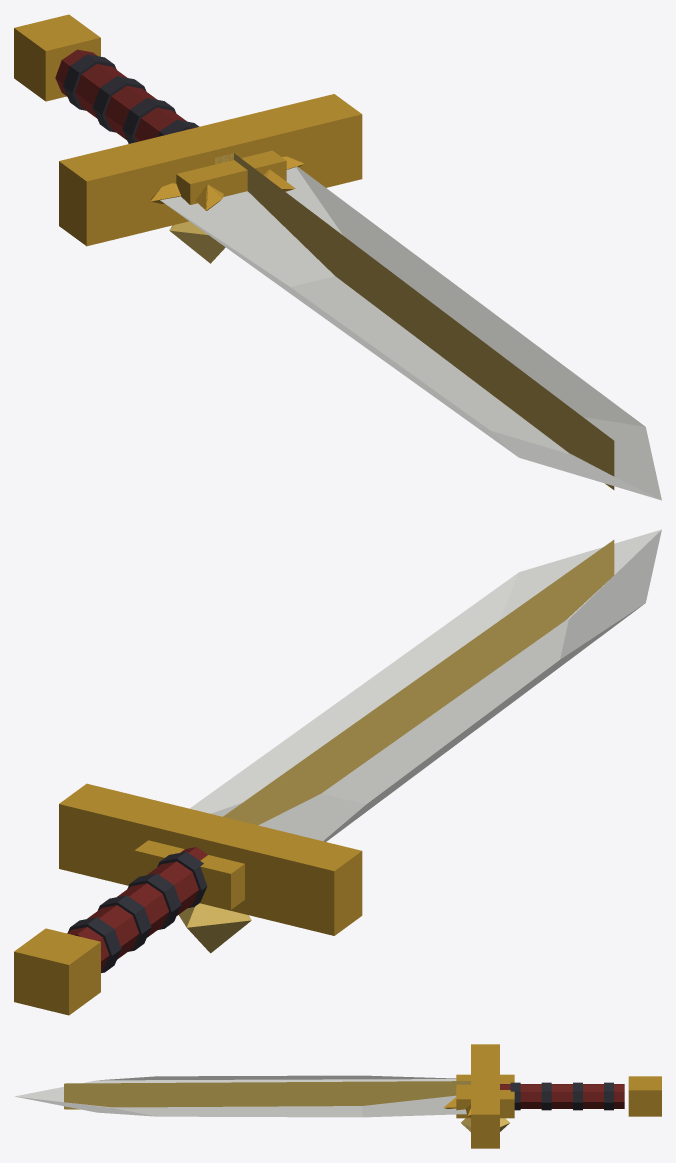
File: 17_Sunforged_Claymore.glb
3 renders of one model, top to bottom at view 1: azimuth 30°, elevation 25°; view 2: azimuth 150°, elevation 25°; view 3: azimuth 270°, elevation 25°, orthographic. The views are drawn at different scales.
Parts seen in each view (by area): view 1: 17_Sunforged_Claymore; view 2: 17_Sunforged_Claymore; view 3: 17_Sunforged_Claymore.
Boxes of the visible parts, <box> form: 17_Sunforged_Claymore: <box>14,14,661,500</box>; 17_Sunforged_Claymore: <box>14,529,661,1015</box>; 17_Sunforged_Claymore: <box>14,1044,661,1148</box>.
Size of the model in its own units: 0.4 by 0.175 by 1.56.
